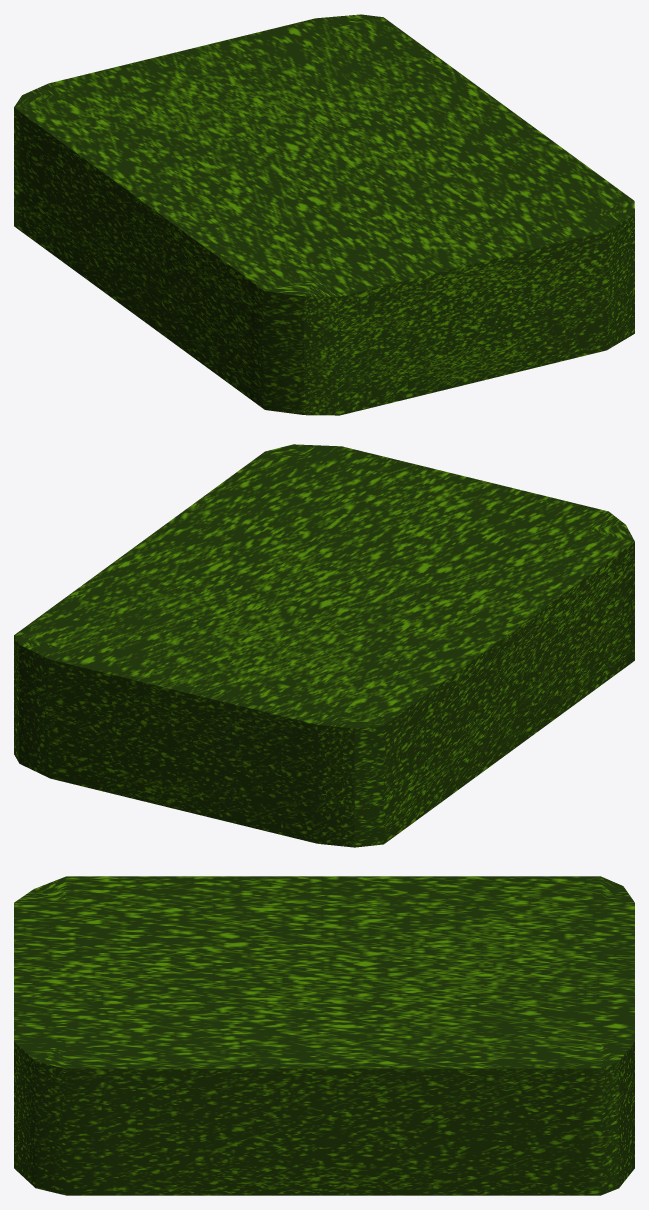
File: platform5.fbx
The picture shows the model from 3 angles, top to bottom: view 1: azimuth 30°, elevation 25°; view 2: azimuth 150°, elevation 25°; view 3: azimuth 270°, elevation 25°; orthographic projection. The views are drawn at different scales.
Visible parts, largest first — view 1: pCube2; view 2: pCube2; view 3: pCube2.
Part boxes in pixels (bbox=[...]): pCube2: bbox=[14, 14, 634, 415]; pCube2: bbox=[14, 444, 634, 847]; pCube2: bbox=[14, 876, 634, 1195].
Size of the model in its own units: 332 by 102 by 454.
Materials: 1 (1 with a texture image).
